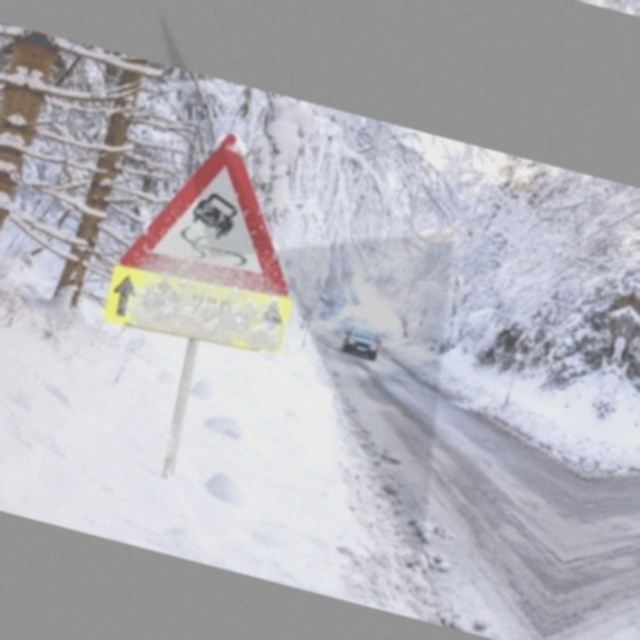Slippery_Road: (117, 108, 316, 318)
